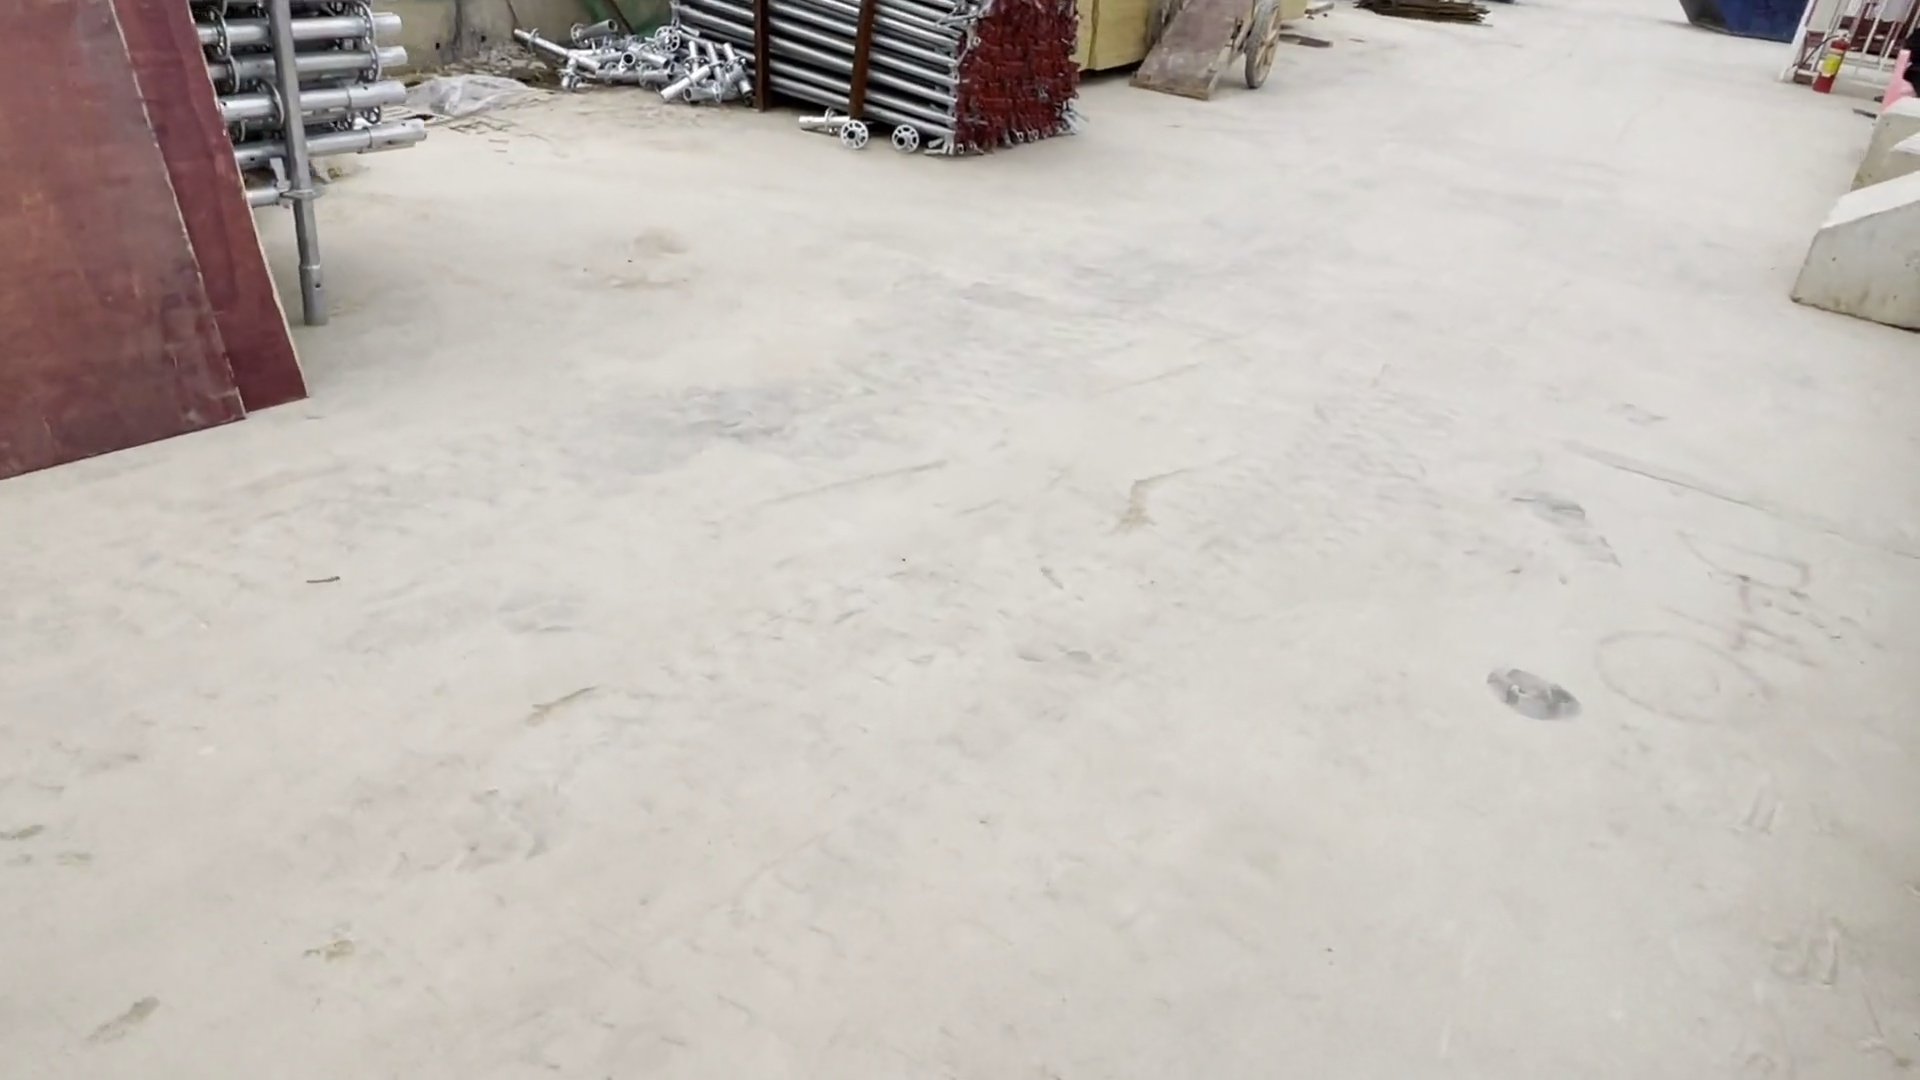handcart: (1137, 1, 1294, 115)
scaffold: (659, 1, 1101, 181), (203, 1, 444, 208)
